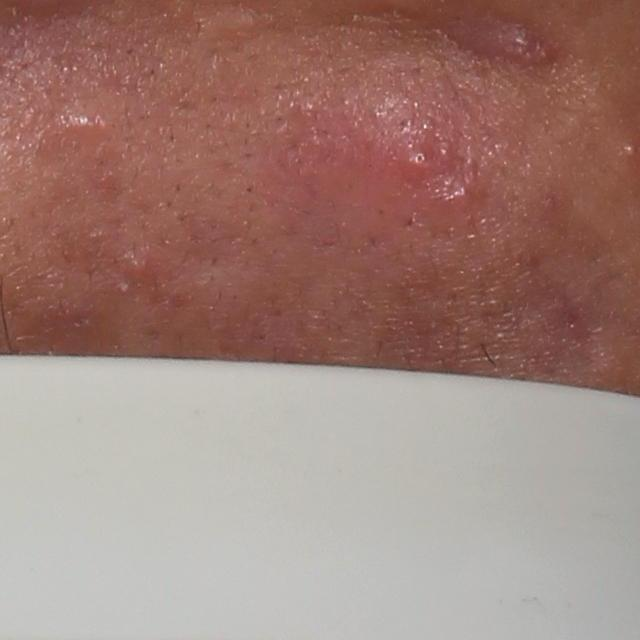papule: (478, 19, 558, 68), (58, 95, 115, 147), (394, 136, 439, 182), (425, 174, 469, 220), (126, 249, 155, 283)
